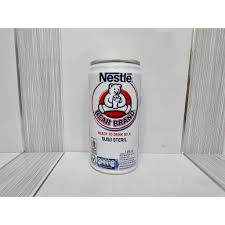Bear Brand Susu Steril (189ml): (82, 54, 145, 176)
